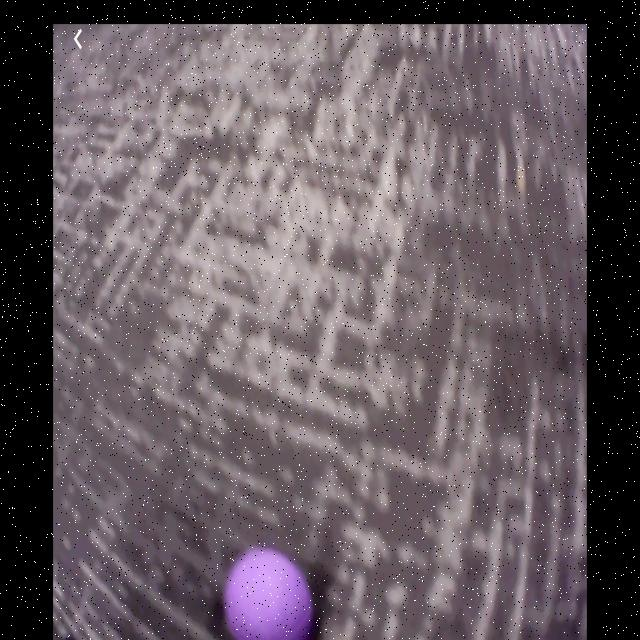ball: (219, 549, 317, 640)
